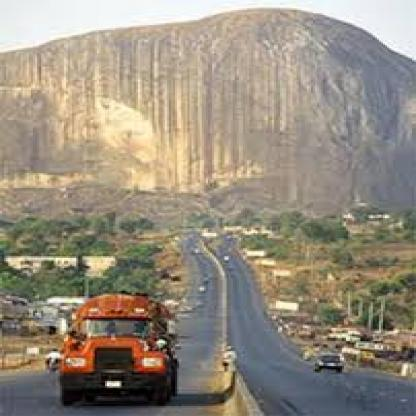car: (57, 294, 179, 405), (310, 352, 354, 382)
